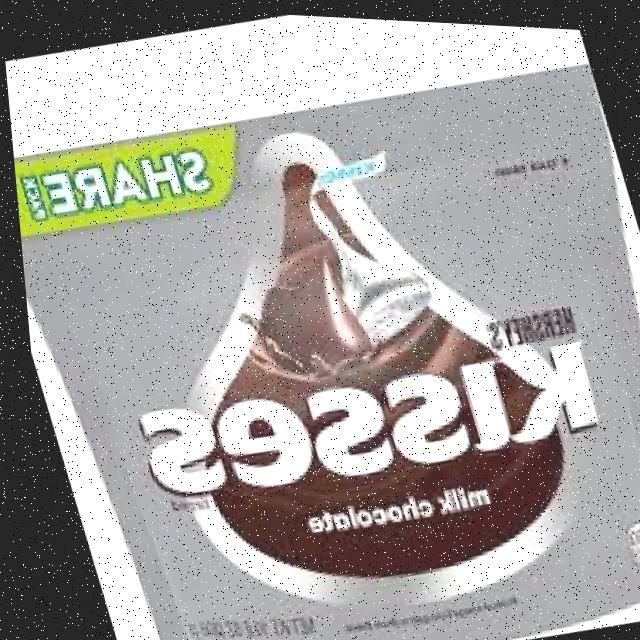kisses: (290, 177, 435, 347)
